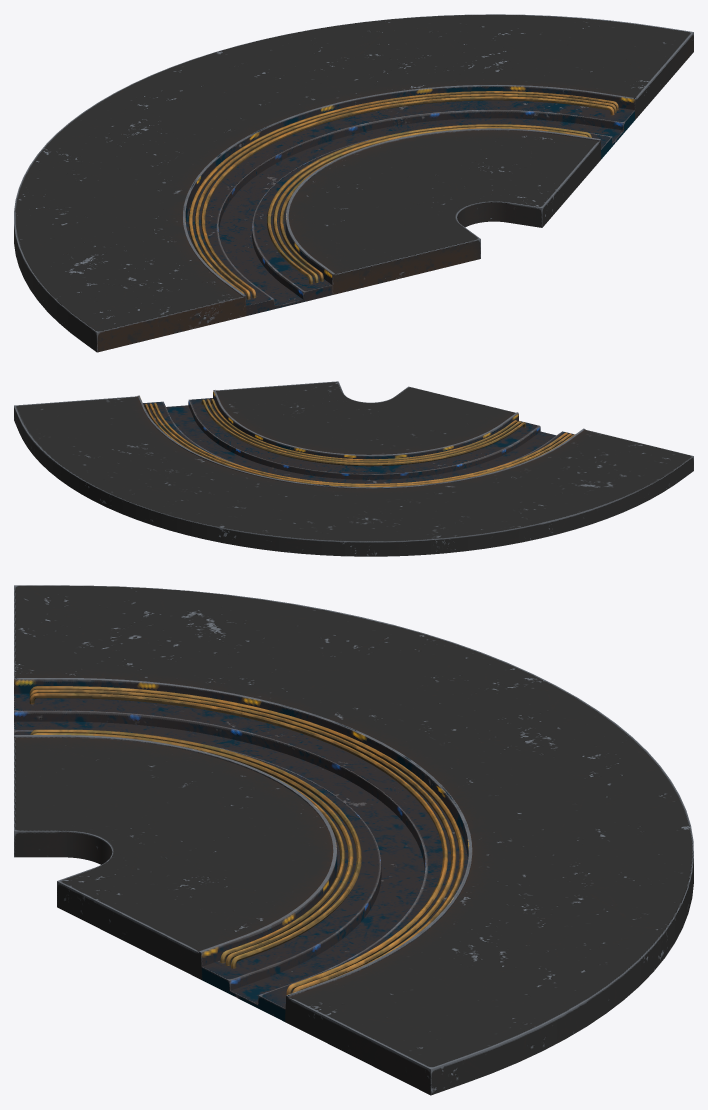
The model's file is SM_Floor_5.fbx.
The picture shows the model from 3 angles, top to bottom: view 1: azimuth 30°, elevation 25°; view 2: azimuth 150°, elevation 25°; view 3: azimuth 270°, elevation 25°; orthographic projection. The views are drawn at different scales.
Parts seen in each view (by area): view 1: SM_Floor_5; view 2: SM_Floor_5; view 3: SM_Floor_5.
Boxes of the visible parts, x1=… form: SM_Floor_5: x1=14, y1=14, x2=693, y2=352; SM_Floor_5: x1=14, y1=381, x2=693, y2=556; SM_Floor_5: x1=14, y1=585, x2=693, y2=1095.
Bounding box in the file's own units: 9972 × 262 × 5921.
